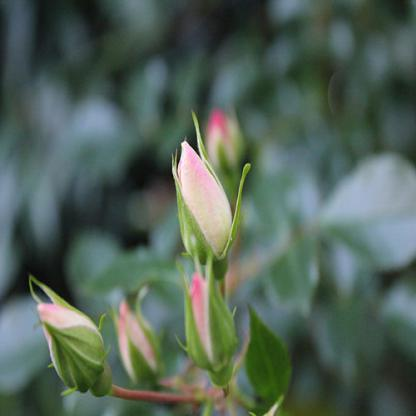Rose-Mawar: (166, 117, 251, 381), (20, 270, 133, 410)
